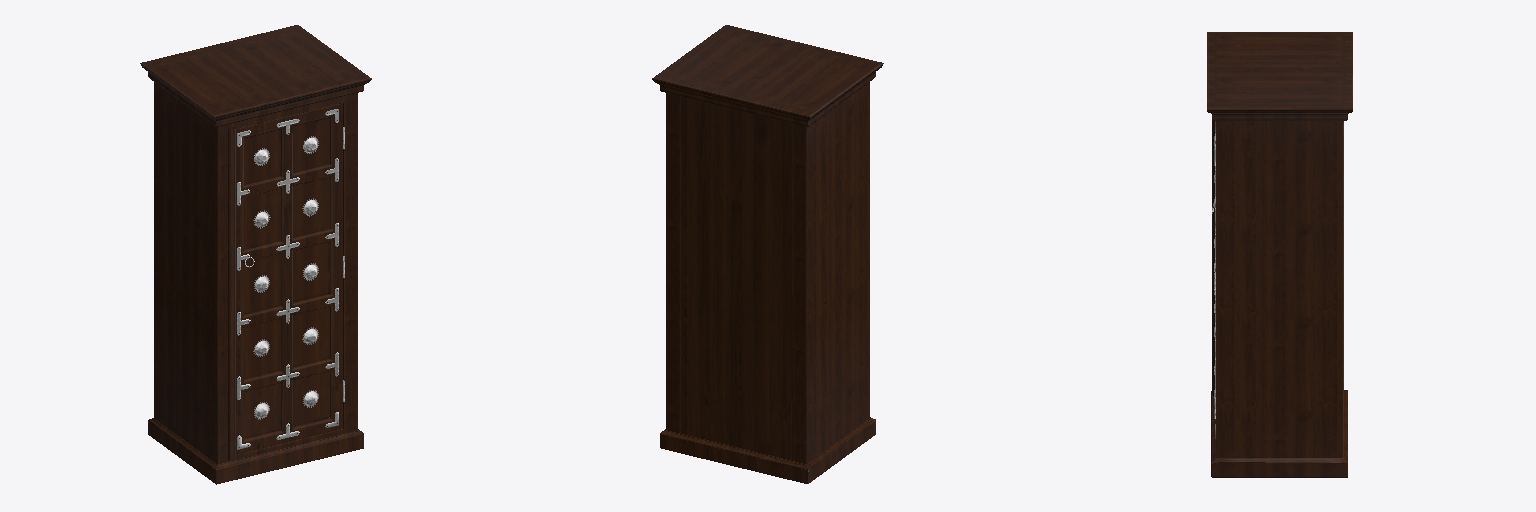
The picture shows the model from 3 angles: view 1: azimuth 30°, elevation 25°; view 2: azimuth 150°, elevation 25°; view 3: azimuth 270°, elevation 25°; orthographic projection.
Parts seen in each view (by area): view 1: solid_001, solid_003; view 2: solid_001; view 3: solid_001.
Part boxes in pixels (x1,y1,x2,y2): solid_001: (140, 25, 371, 484); solid_003: (237, 109, 344, 449); solid_001: (652, 25, 883, 483); solid_001: (1207, 32, 1352, 477).
Size of the model in its own units: 0.5599 by 1.26 by 0.4513.
1 materials, 1 textured.